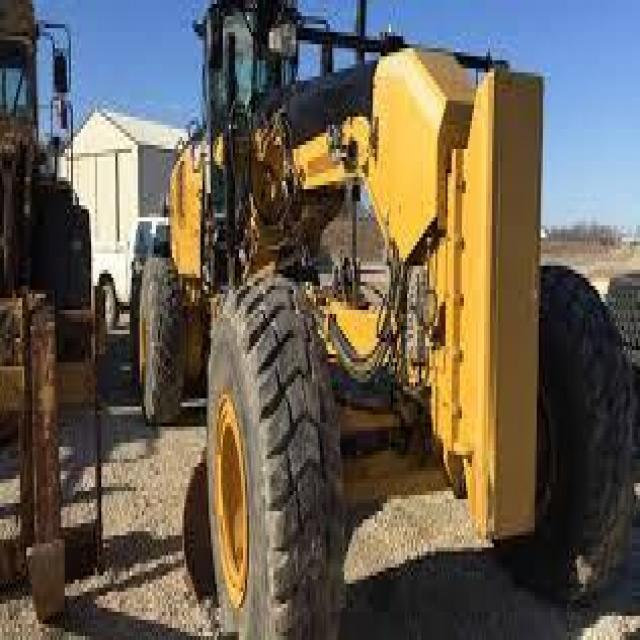Grader: (117, 12, 628, 636)
